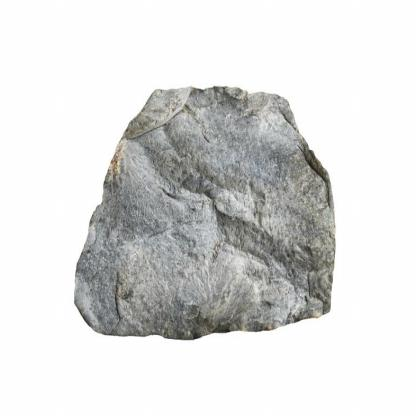Sedimentary_Limestone: (66, 71, 344, 343)
